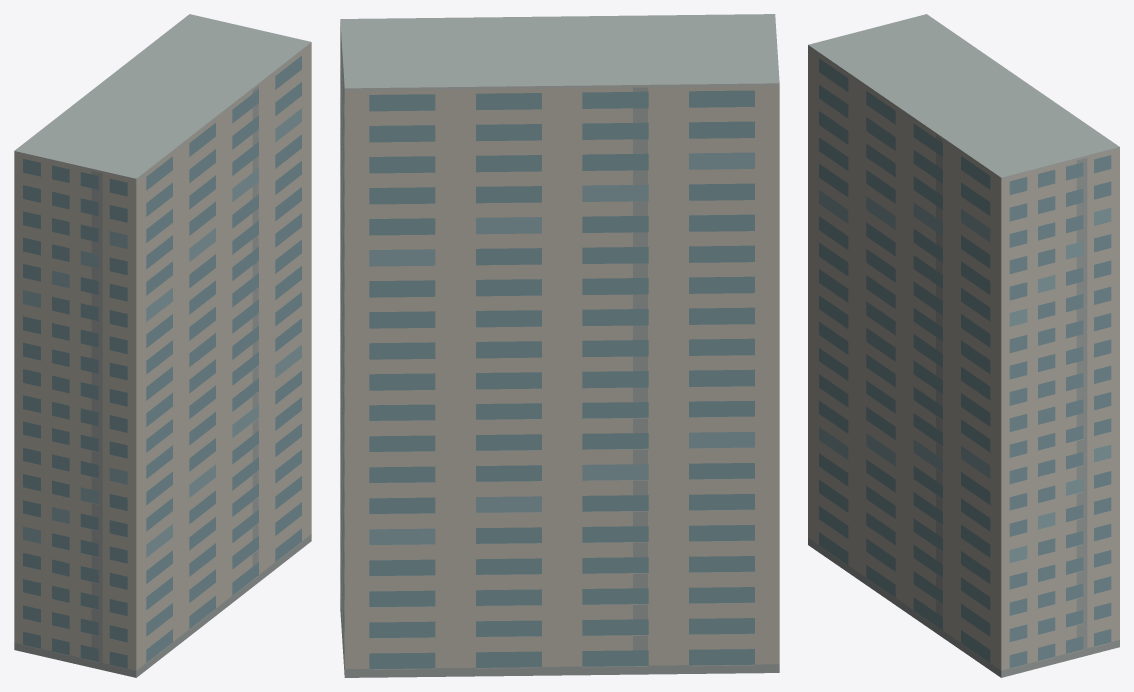
The model's file is residential-40c3a4be-4e2d-43bb-896c-875606c71319.glb.
3 views of the same model, side by side, from view 1: azimuth 30°, elevation 25°; view 2: azimuth 150°, elevation 25°; view 3: azimuth 270°, elevation 25° (orthographic). The views are drawn at different scales.
Parts seen in each view (by area): view 1: residential-40c3a4be-4e2d-43bb-896c-875606c71319.tmp; view 2: residential-40c3a4be-4e2d-43bb-896c-875606c71319.tmp; view 3: residential-40c3a4be-4e2d-43bb-896c-875606c71319.tmp.
Part boxes in pixels (x1,y1,x2,y2): residential-40c3a4be-4e2d-43bb-896c-875606c71319.tmp: (14,14,311,677); residential-40c3a4be-4e2d-43bb-896c-875606c71319.tmp: (340,14,779,677); residential-40c3a4be-4e2d-43bb-896c-875606c71319.tmp: (808,14,1119,677).
Bounding box in the file's own units: 36.5 × 52 × 29.39.
